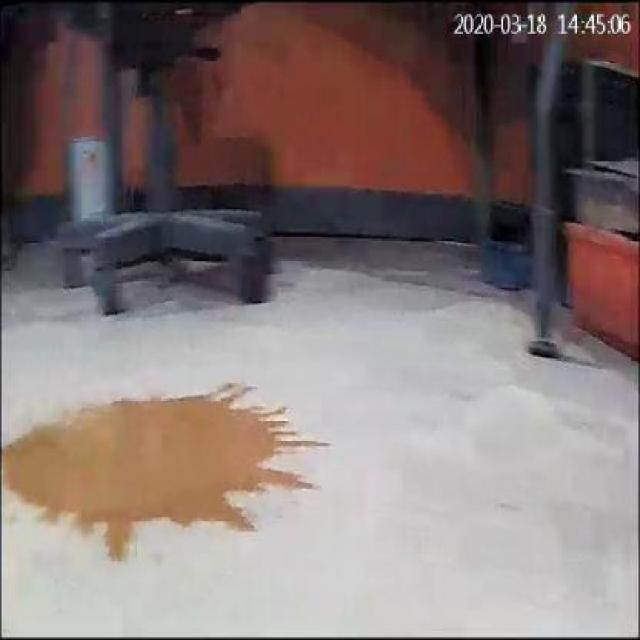spill: (3, 370, 326, 553)
